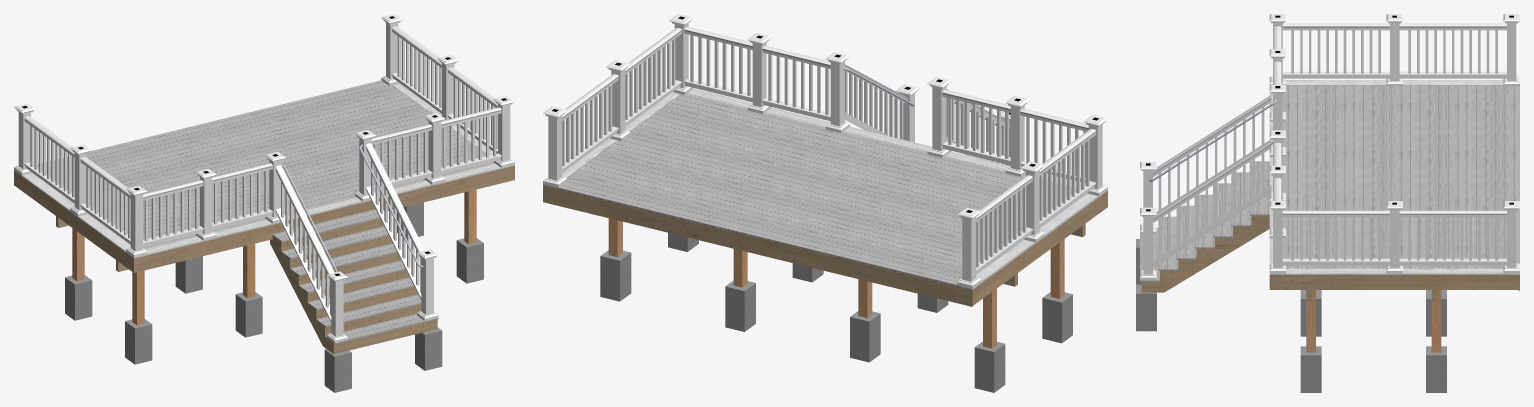
The model's file is deck_082523.glb.
3 renders of one model, left to right at view 1: azimuth 30°, elevation 25°; view 2: azimuth 150°, elevation 25°; view 3: azimuth 270°, elevation 25°, orthographic. The views are drawn at different scales.
Parts seen in each view (by area): view 1: Material2 (×7); view 2: Material2 (×7); view 3: Material2 (×7).
Part boxes in pixels (x1,y1,x2,y2): Material2 (×7): (14, 14, 514, 392); Material2 (×7): (543, 14, 1107, 392); Material2 (×7): (1136, 14, 1519, 392).
Bounding box in the file's own units: 264 × 123 × 221.
Materials: 12 (10 with a texture image).
